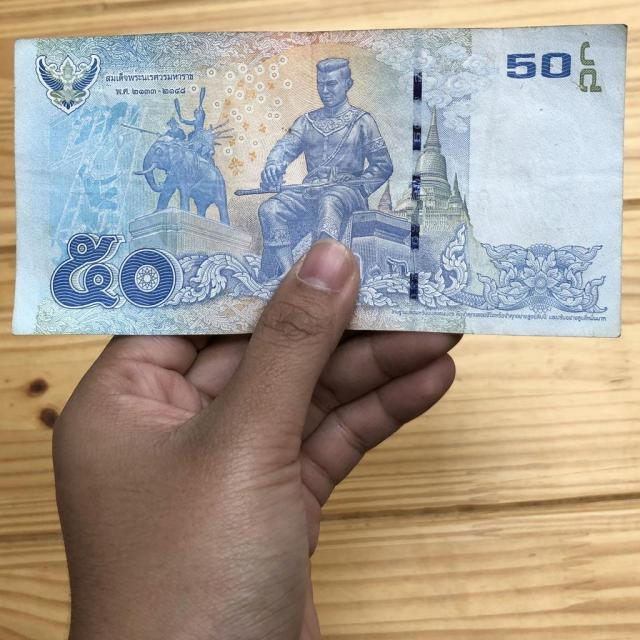THAI50: (9, 24, 628, 339)
